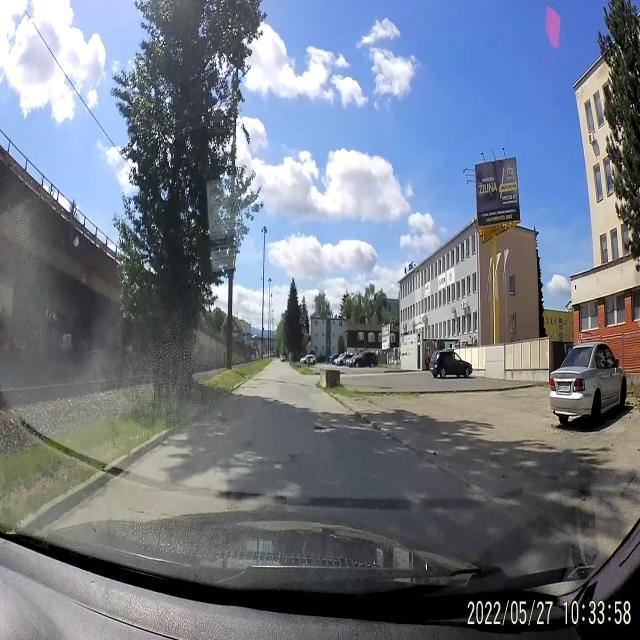Pothole: (312, 422, 338, 436), (286, 450, 302, 463)
